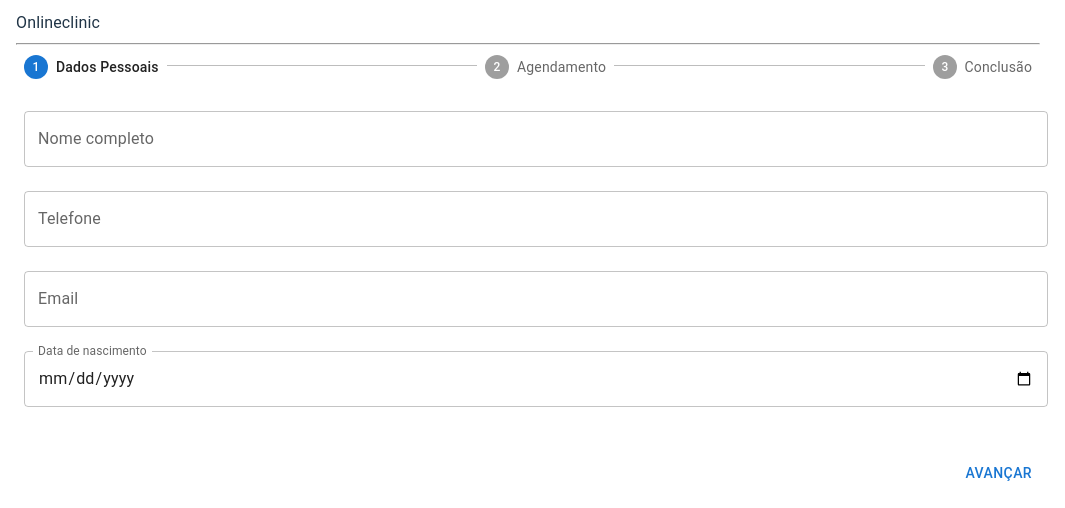
Test case: App: faixa etaria (OLC-1028) › sem faixa configurada qualquer idade segue para o agendamento
The width and height of the screenshot is (1065, 508).
Type "1940-01-01" into the date field labelled "Data de nascimento" at (536, 379), box [24,351,1048,407]
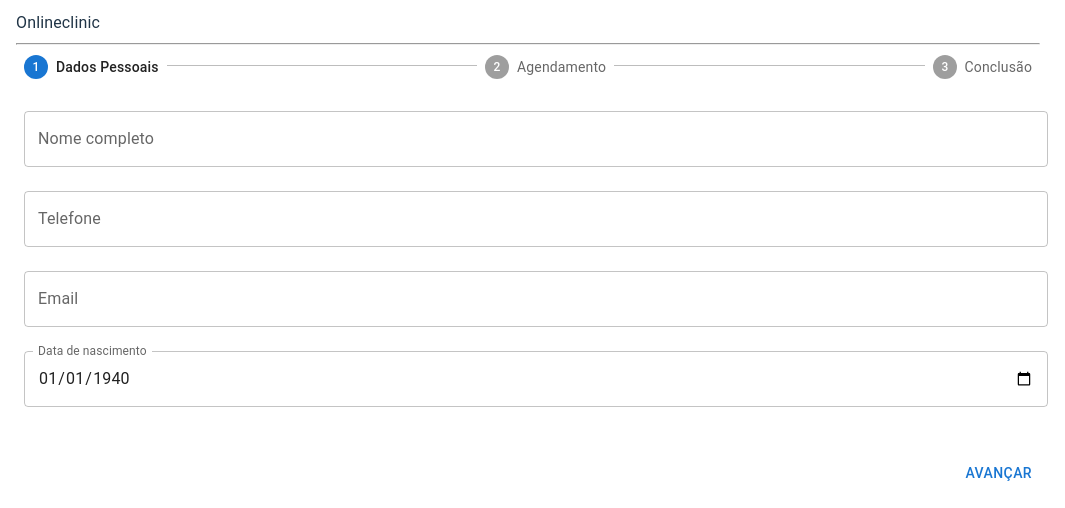
Click the button "Avançar" at (999, 473), box [957,455,1040,491]
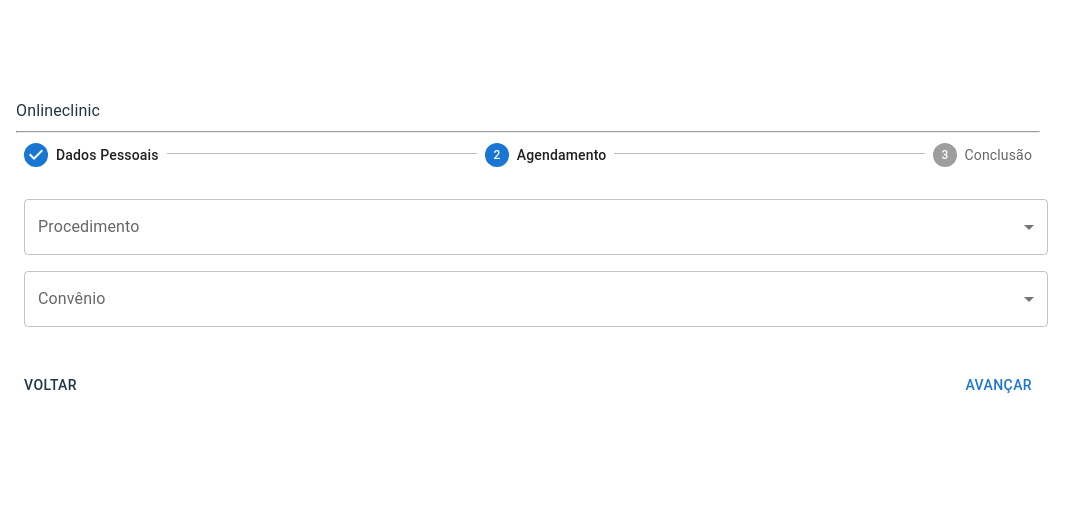
Expected: the label labelled "Data de nascimento" is gone
